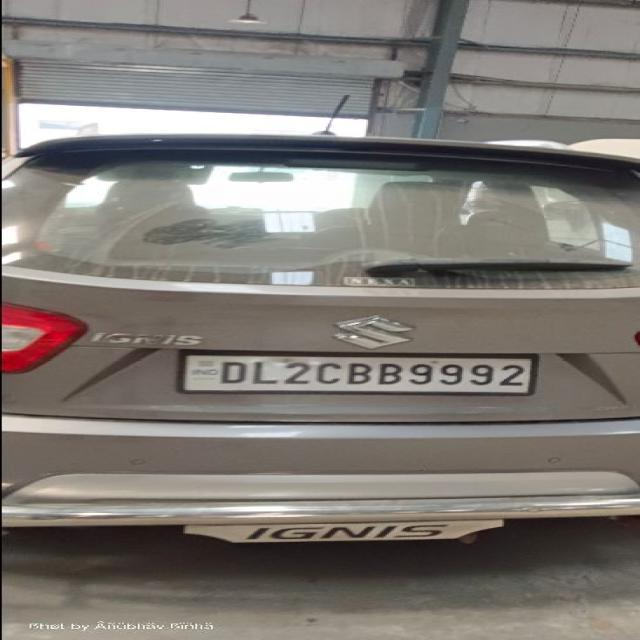license_plate: (176, 349, 539, 395), (180, 518, 504, 544)
